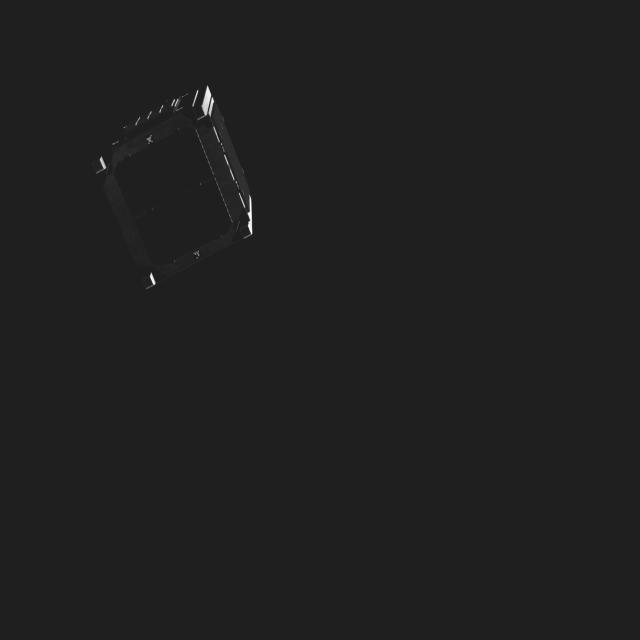medium_debris: (89, 78, 272, 303)
